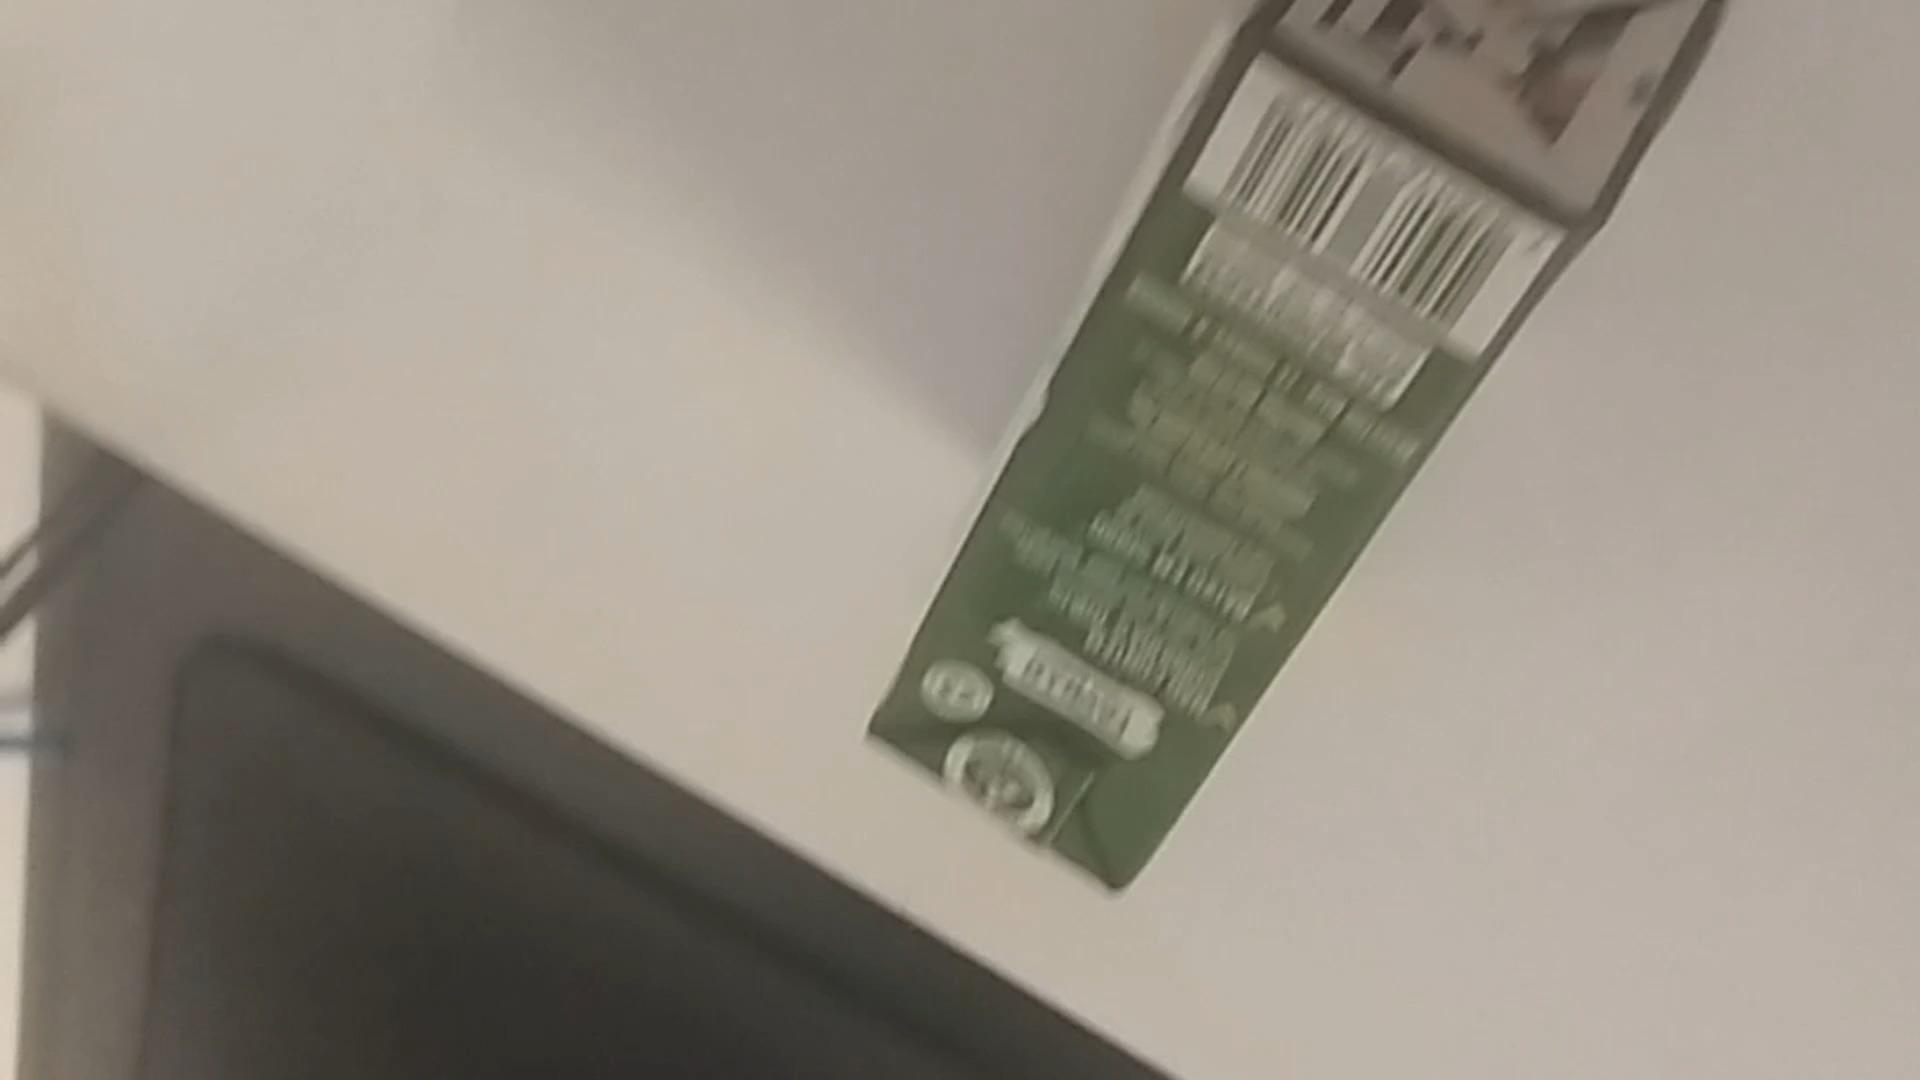coco: (865, 0, 1717, 899)
